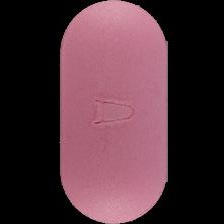50090-0713: (0, 0, 224, 224)
